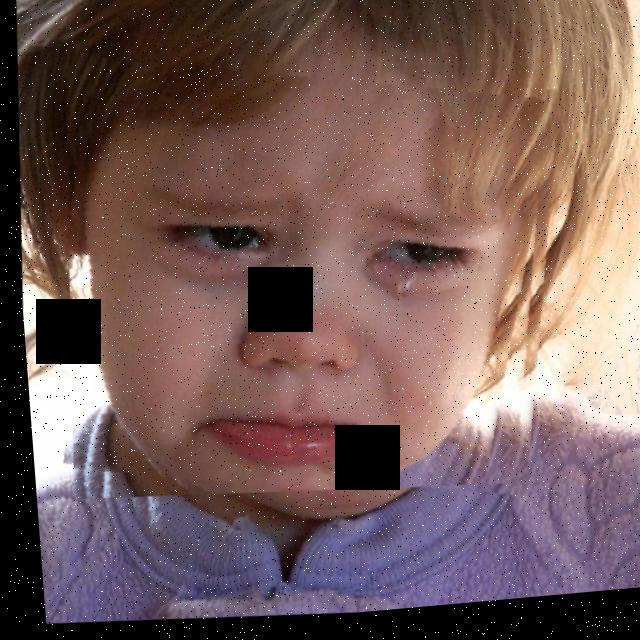sad: (42, 38, 572, 526)
